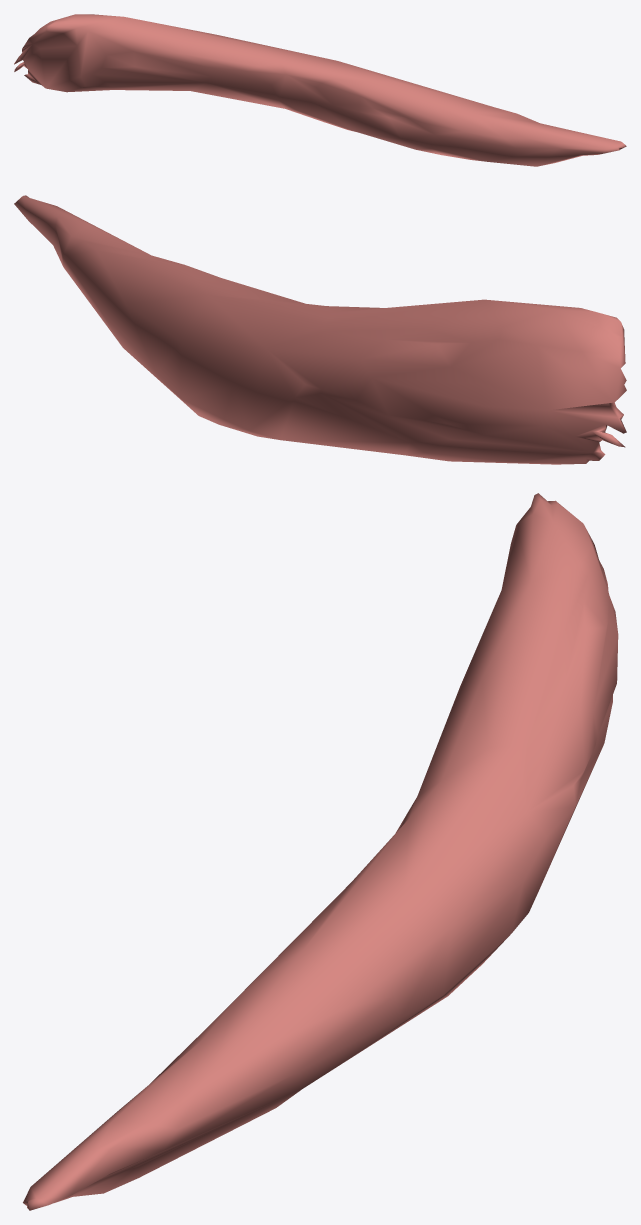
3 views of the same model, one above another, from view 1: azimuth 30°, elevation 25°; view 2: azimuth 150°, elevation 25°; view 3: azimuth 270°, elevation 25° (orthographic). The views are drawn at different scales.
Parts seen in each view (by area): view 1: ZA_37fef1f99a52a323; view 2: ZA_37fef1f99a52a323; view 3: ZA_37fef1f99a52a323.
Boxes of the visible parts, <box> form: ZA_37fef1f99a52a323: <box>14,14,626,166</box>; ZA_37fef1f99a52a323: <box>14,195,626,464</box>; ZA_37fef1f99a52a323: <box>23,493,618,1210</box>.
Size of the model in its own units: 0.0835 by 0.0272 by 0.0457.
